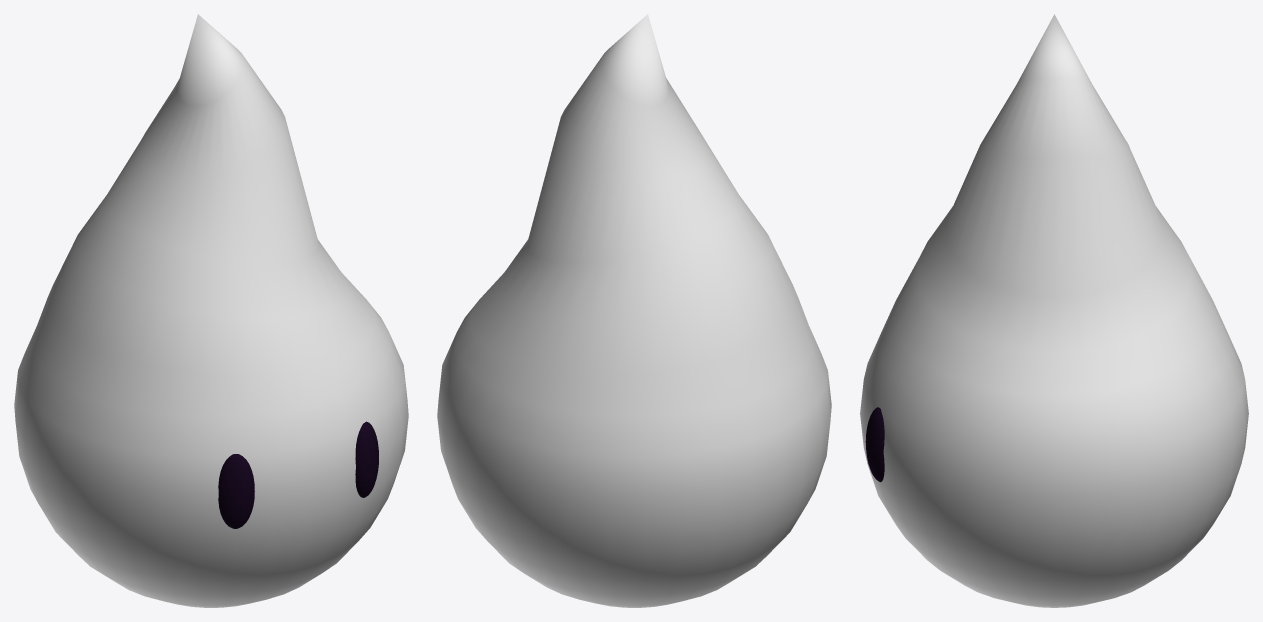
Rendered from flamaProof.fbx.
3 views of the same model, side by side, from view 1: azimuth 30°, elevation 25°; view 2: azimuth 150°, elevation 25°; view 3: azimuth 270°, elevation 25° (orthographic).
Visible parts, largest first — view 1: Sphere, Sphere.003; view 2: Sphere; view 3: Sphere, Sphere.003.
Boxes of the visible parts, <box> form: Sphere: <box>14,14,408,607</box>; Sphere.003: <box>218,421,378,528</box>; Sphere: <box>437,14,831,607</box>; Sphere: <box>860,14,1248,607</box>; Sphere.003: <box>865,407,884,482</box>.
Bounding box in the file's own units: 200 × 323 × 200.
